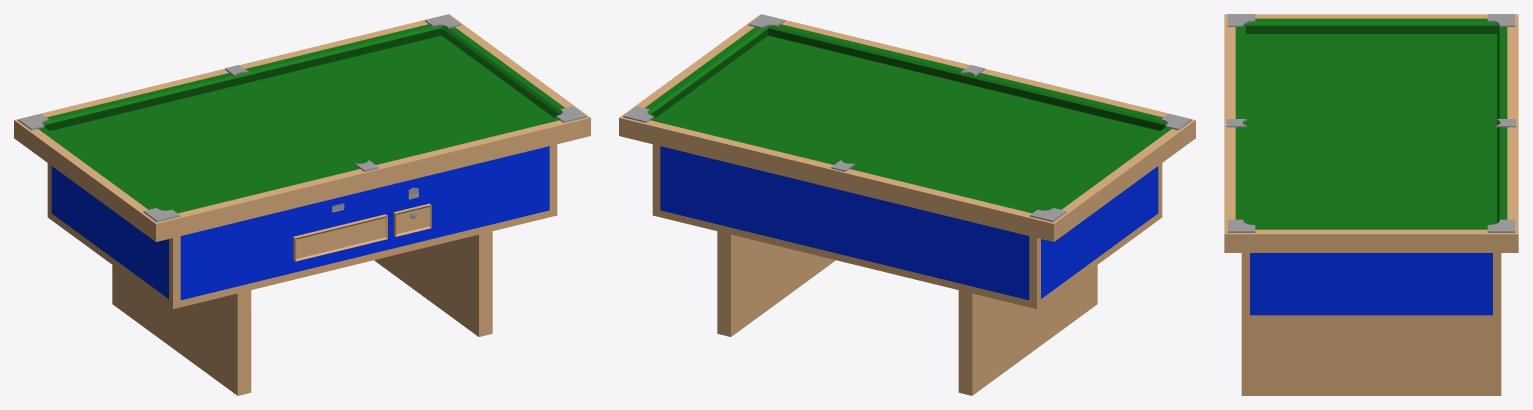
Rendered from Pool_Table_01.fbx.
3 views of the same model, side by side, from view 1: azimuth 30°, elevation 25°; view 2: azimuth 150°, elevation 25°; view 3: azimuth 270°, elevation 25° (orthographic). The views are drawn at different scales.
Parts seen in each view (by area): view 1: Pool_Table_01, Pool_Table_01_Drawer, Pool_Table_01_Drawer_Coin; view 2: Pool_Table_01; view 3: Pool_Table_01.
Part boxes in pixels (<box>): Pool_Table_01: <box>14,14,590,395</box>; Pool_Table_01_Drawer: <box>293,214,387,261</box>; Pool_Table_01_Drawer_Coin: <box>393,203,431,236</box>; Pool_Table_01: <box>619,14,1195,395</box>; Pool_Table_01: <box>1224,14,1518,395</box>.
Size of the model in its own units: 230 by 102 by 130.
